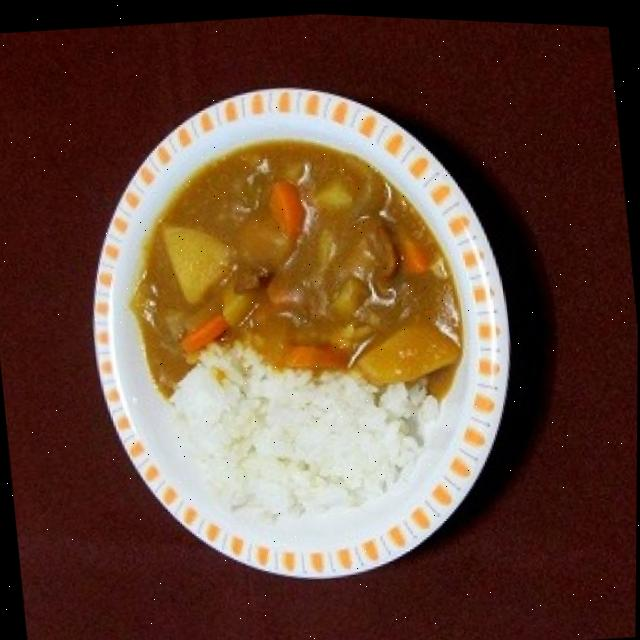Wet: (113, 109, 487, 543)
